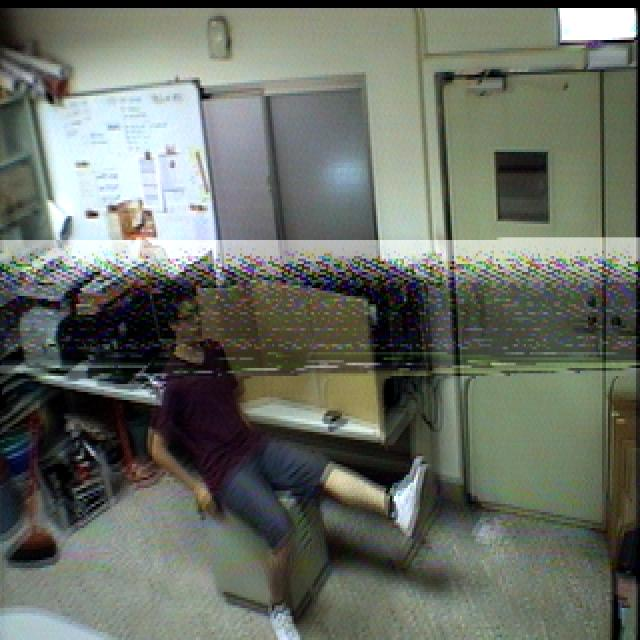sit: (142, 279, 446, 640)
